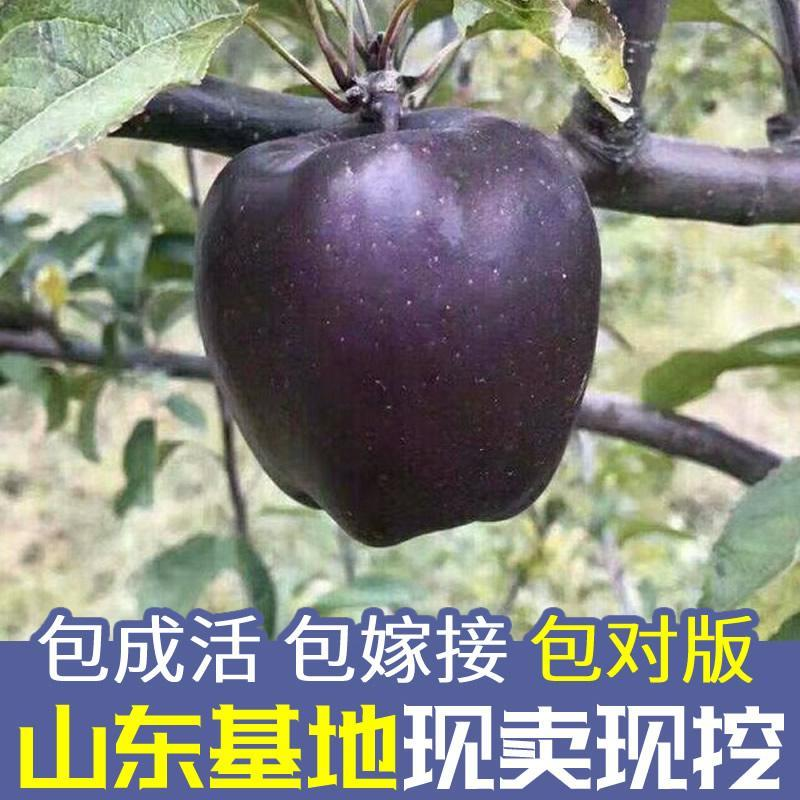apple: (185, 102, 599, 550)
